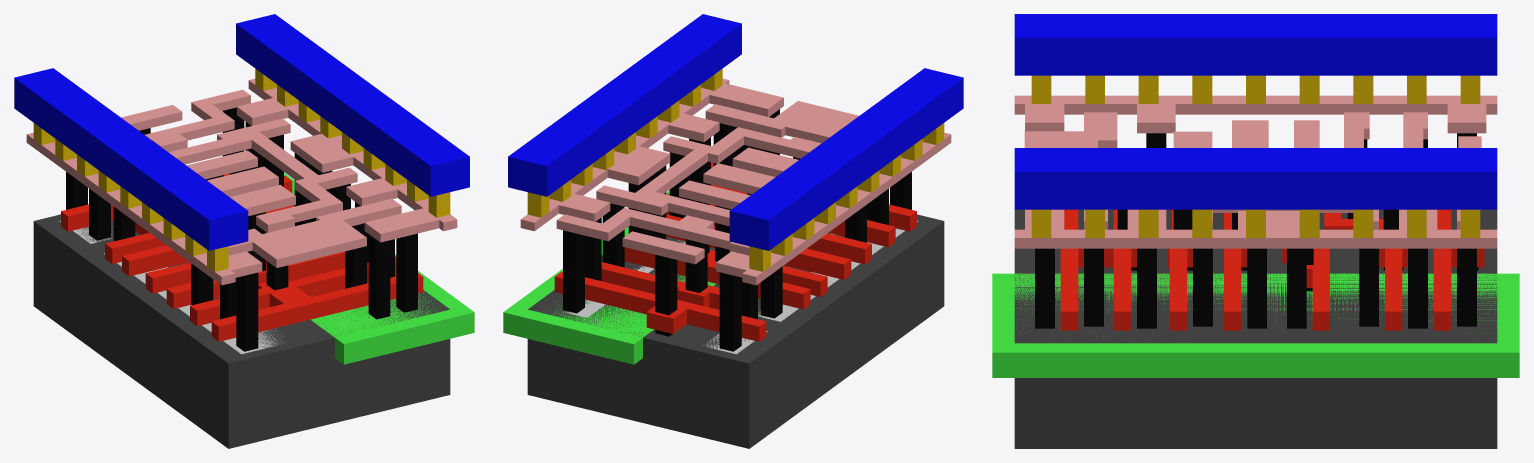
File: sky130_fd_sc_hd__and4b_2.obj
3 renders of one model, left to right at view 1: azimuth 30°, elevation 25°; view 2: azimuth 150°, elevation 25°; view 3: azimuth 270°, elevation 25°, orthographic. The views are drawn at different scales.
Visible parts, largest first — view 1: subs, metal1, li, licon, poly, nwell, mcon, diff; view 2: subs, metal1, li, licon, poly, nwell, mcon, diff; view 3: metal1, subs, li, nwell, licon, poly, mcon.
Boxes of the visible parts, x1,y1,x2,y2 form: subs: (33, 214, 450, 448); metal1: (14, 14, 469, 250); li: (26, 78, 457, 285); licon: (66, 107, 417, 351); poly: (61, 173, 423, 341); nwell: (266, 173, 474, 364); mcon: (33, 68, 450, 271); diff: (59, 220, 282, 354); subs: (527, 214, 944, 448); metal1: (508, 14, 963, 250); li: (520, 78, 951, 285); licon: (563, 109, 911, 351); poly: (554, 162, 916, 341); nwell: (503, 190, 715, 364); mcon: (527, 68, 944, 271); diff: (703, 220, 918, 354); metal1: (1014, 14, 1497, 209); subs: (1014, 209, 1497, 448); li: (1014, 95, 1497, 248); nwell: (992, 273, 1519, 377); licon: (1035, 133, 1478, 328); poly: (1060, 209, 1484, 330); mcon: (1031, 75, 1480, 237).
Size of the model in its own units: 3.2 by 2.74 by 4.52.
